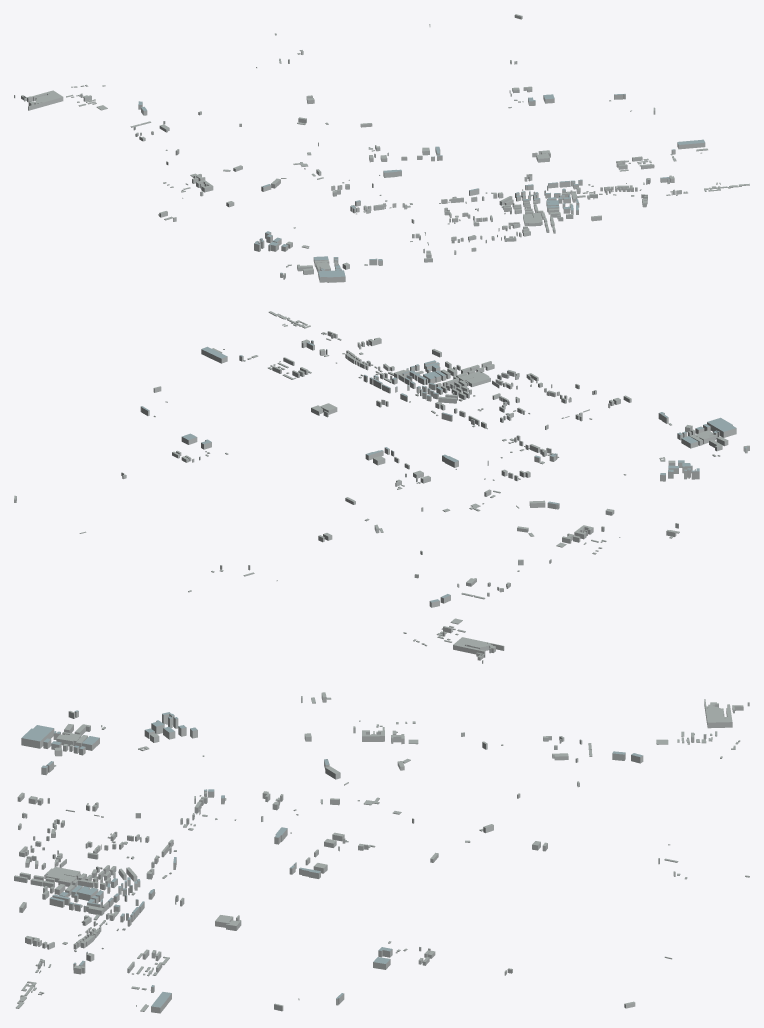
File: far.glb
3 renders of one model, top to bottom at view 1: azimuth 30°, elevation 25°; view 2: azimuth 150°, elevation 25°; view 3: azimuth 270°, elevation 25°, orthographic. The views are drawn at different scales.
Bounding box in the file's own units: 2112 × 31.2 × 2080.
